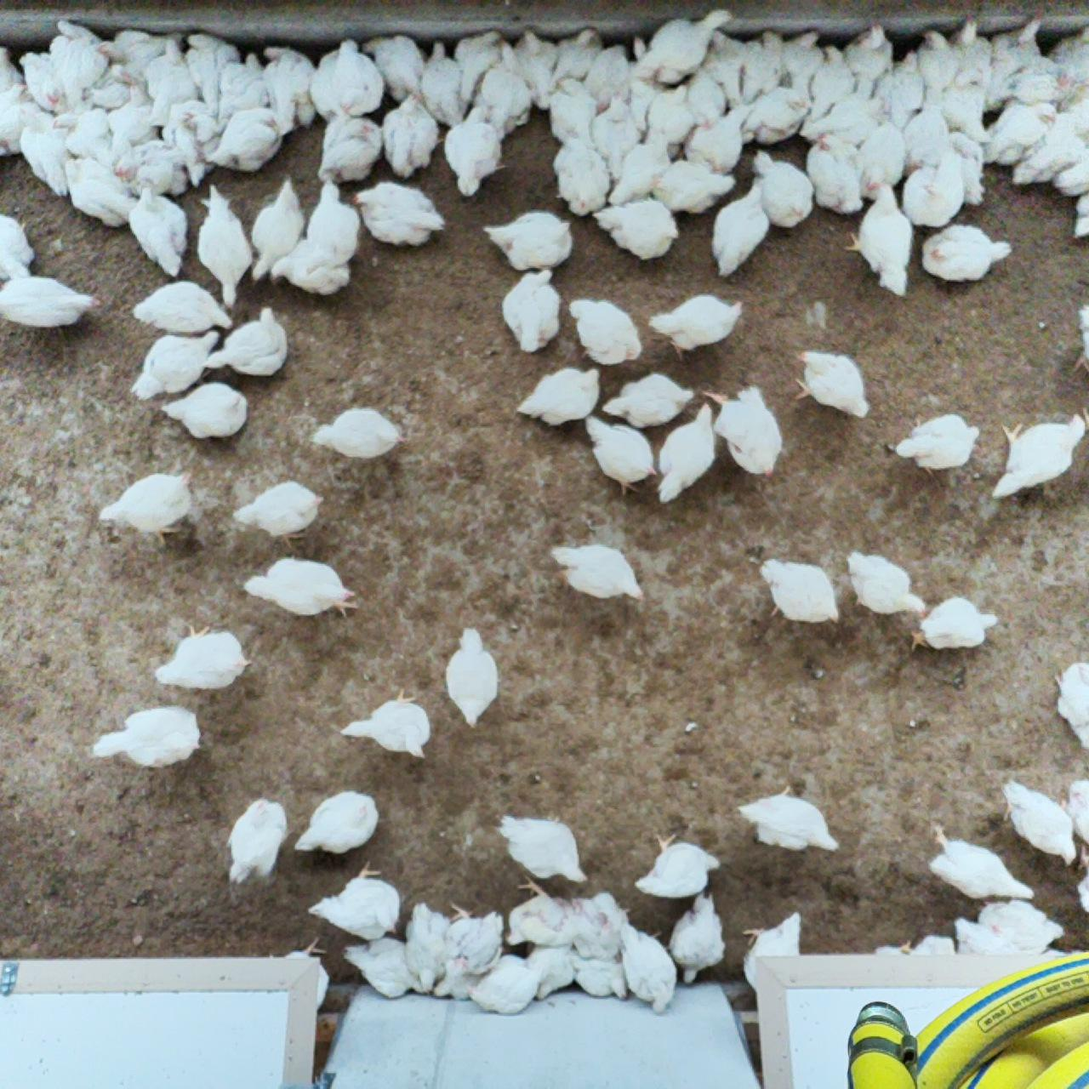chicken: (986, 405, 1089, 502), (924, 820, 1036, 902), (844, 177, 917, 298), (305, 860, 406, 945), (95, 465, 197, 549), (240, 551, 362, 621), (191, 184, 255, 311), (993, 776, 1080, 869), (703, 384, 787, 480), (635, 7, 735, 87), (0, 259, 105, 334), (497, 807, 593, 887), (737, 786, 841, 859), (646, 290, 747, 365), (429, 900, 506, 998), (349, 175, 449, 249), (92, 704, 204, 768), (653, 395, 719, 503), (609, 916, 679, 1017), (123, 183, 195, 280), (581, 412, 662, 498), (339, 689, 435, 761), (132, 327, 222, 403), (481, 205, 577, 276), (154, 623, 254, 691), (547, 542, 653, 606), (439, 624, 503, 730), (632, 827, 726, 899), (756, 554, 845, 629), (231, 479, 326, 549), (202, 303, 289, 378), (844, 546, 931, 621), (245, 177, 307, 282), (399, 900, 465, 998), (743, 144, 818, 230), (311, 37, 385, 123), (793, 348, 874, 426), (740, 910, 808, 1002), (504, 880, 592, 951), (709, 184, 776, 277), (918, 221, 1015, 285), (441, 106, 511, 194), (222, 796, 288, 889), (602, 368, 700, 430), (14, 98, 73, 199), (895, 412, 984, 478), (130, 277, 236, 332), (294, 788, 381, 855), (907, 592, 998, 656), (512, 361, 600, 427), (800, 89, 895, 150), (667, 891, 728, 986), (143, 35, 205, 128), (155, 381, 251, 441), (567, 295, 647, 367), (590, 197, 680, 260), (500, 264, 563, 354), (202, 106, 284, 175), (311, 403, 409, 460), (379, 92, 444, 177), (800, 129, 863, 216), (460, 952, 543, 1018), (65, 151, 137, 227), (473, 38, 533, 129), (303, 177, 361, 270), (978, 98, 1057, 166), (975, 895, 1067, 953), (334, 935, 416, 1000), (158, 107, 222, 190), (988, 5, 1047, 95), (644, 157, 734, 216), (609, 123, 674, 204), (902, 148, 967, 229), (47, 21, 107, 107), (851, 120, 912, 204), (269, 235, 353, 296), (316, 110, 383, 186), (415, 37, 469, 131), (590, 87, 646, 177), (211, 49, 273, 129), (46, 106, 121, 172), (260, 46, 317, 132), (360, 31, 430, 101), (614, 37, 666, 131), (548, 137, 610, 215), (564, 890, 632, 961), (94, 26, 182, 80), (544, 75, 606, 151), (183, 28, 241, 109), (112, 135, 191, 193), (935, 65, 993, 144), (842, 19, 898, 100), (736, 83, 810, 144), (451, 28, 509, 105), (561, 943, 632, 1005), (806, 39, 860, 120), (934, 127, 988, 208), (273, 938, 332, 1011), (520, 936, 583, 1004), (100, 81, 161, 151), (897, 101, 956, 173), (641, 81, 696, 158), (511, 28, 561, 112), (699, 29, 754, 105), (678, 113, 747, 173), (943, 10, 995, 88), (547, 24, 607, 91), (1006, 135, 1086, 185), (583, 40, 634, 118), (13, 48, 73, 114), (878, 47, 929, 122), (738, 28, 788, 103), (1052, 659, 1089, 760), (995, 64, 1070, 113), (913, 26, 963, 95), (951, 915, 1012, 971), (780, 31, 828, 100), (680, 67, 730, 133), (73, 76, 144, 120), (76, 70, 141, 118), (0, 206, 37, 287), (1044, 19, 1089, 85), (0, 77, 33, 162), (1057, 775, 1089, 855), (906, 933, 958, 982), (1053, 145, 1089, 200), (1054, 90, 1089, 146), (1066, 297, 1089, 378), (0, 38, 24, 114), (1063, 847, 1089, 916), (866, 940, 915, 973), (1064, 193, 1089, 245)
